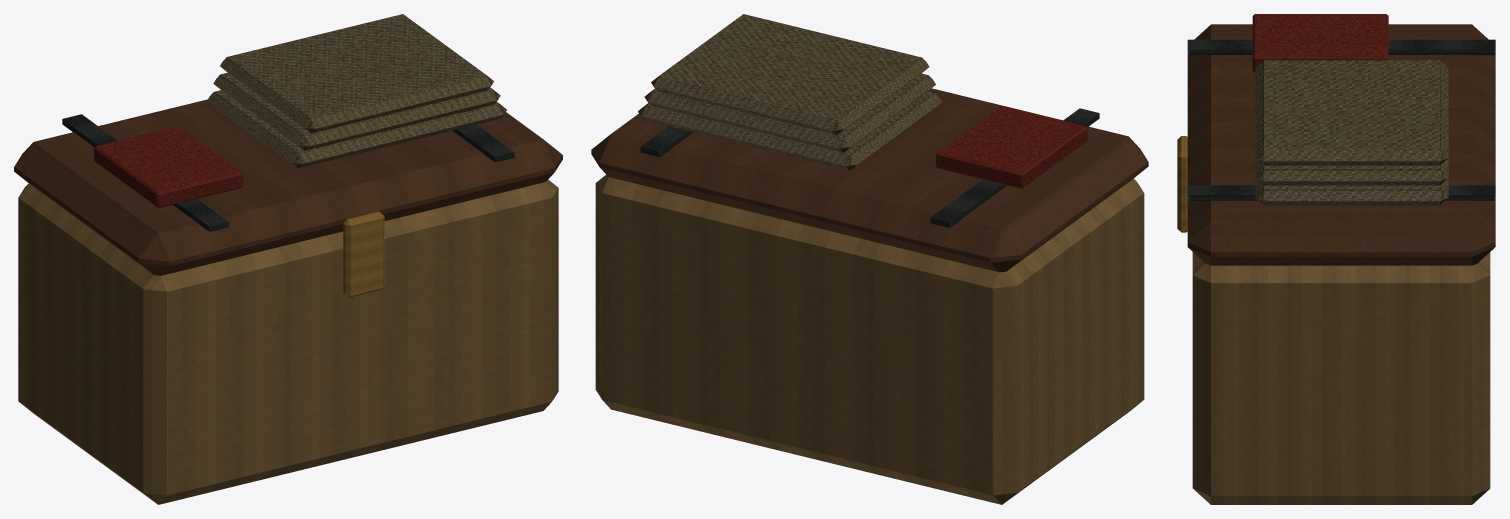
File: level_lived_trunk.glb
The picture shows the model from 3 angles, left to right: view 1: azimuth 30°, elevation 25°; view 2: azimuth 150°, elevation 25°; view 3: azimuth 270°, elevation 25°; orthographic projection. The views are drawn at different scales.
Visible parts, largest first — view 1: level_lived_trunk; view 2: level_lived_trunk; view 3: level_lived_trunk.
Part boxes in pixels (x1,y1,x2,y2): level_lived_trunk: [14, 14, 562, 504]; level_lived_trunk: [591, 14, 1148, 504]; level_lived_trunk: [1177, 14, 1495, 504].
Bounding box in the file's own units: 0.98 × 0.7165 × 0.6095.
Materials: 7 (7 with a texture image).
